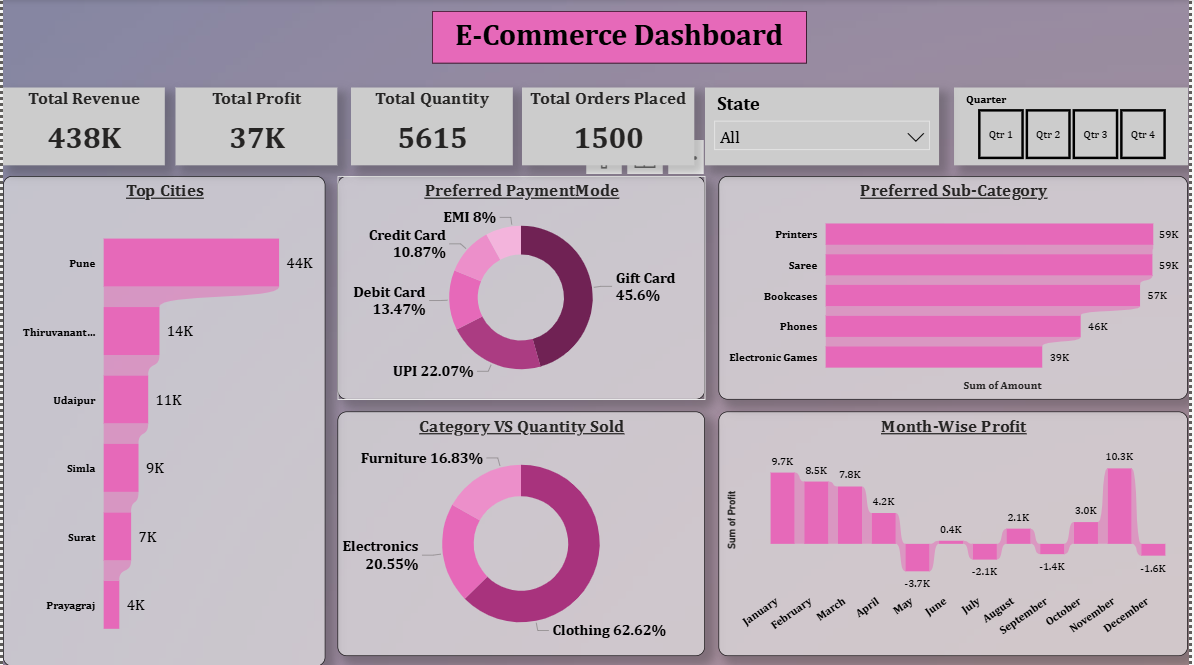

The dashboard page shown, as its layout file describes it:
{"tool":"powerbi","page":{"name":"E-commerce Dashboard","canvas":[1280,720],"ordinal":0},"visuals":[{"type":"columnChart","title":"Month-Wise Profit","fields":{"Category":["orders.Order Date.Variation.Date Hierarchy.Month"],"Y":["Sum(Details.Profit)"]},"box":[772.4,445.3,506.8,263.9],"z":0},{"type":"barChart","title":"Preferred Sub-Category","fields":{"Category":["Details.Sub-Category"],"Y":["Sum(Details.Amount)"]},"box":[772.4,191.1,506.8,241.3],"z":1000},{"type":"donutChart","title":" Preferred PaymentMode","fields":{"Category":["Details.PaymentMode"],"Y":["CountNonNull(Details.Order ID)"]},"box":[361.1,191.1,396.7,241.3],"z":2000},{"type":"pieChart","title":"Category VS Quantity Sold","fields":{"Category":["Details.Category"],"Y":["Sum(Details.Quantity)"]},"box":[361.1,445.3,396.7,263.9],"z":3000},{"type":"barChart","title":"Top Cities","fields":{"Category":["orders.City"],"Y":["Sum(Details.Amount)"]},"box":[0,191.1,348.1,529.5],"z":4000},{"type":"textbox","box":[463,13.2,404.4,56.7],"z":5000},{"type":"card","title":"Total Revenue","fields":{"Values":["Sum(Details.Amount)"]},"box":[0,95.5,174.9,84.2],"z":6000},{"type":"card","title":"Total Profit","fields":{"Values":["Sum(Details.Profit)"]},"box":[186.2,95.5,174.9,84.2],"z":7000},{"type":"card","title":"Total Quantity","fields":{"Values":["Sum(Details.Quantity)"]},"box":[375.7,95.5,174.9,84.2],"z":8000},{"type":"card","title":"Total Orders Placed","fields":{"Values":["CountNonNull(Details.Order ID)"]},"box":[560.3,95.5,186.2,84.2],"z":9000},{"type":"slicer","fields":{"Values":["orders.Order Date.Variation.Date Hierarchy.Quarter"]},"box":[1026.6,95.5,252.6,84.2],"z":10000},{"type":"slicer","fields":{"Values":["orders.State"]},"box":[757.8,95.5,252.6,84.2],"z":11000}]}

Visuals, with their boxes in screenshot pixels (x1, y1, x2, y2), scaled from the page's 1280x720 canvas onto the 1194x665 screenshot:
"Month-Wise Profit" columnChart: [721,411,1193,655]
"Preferred Sub-Category" barChart: [721,177,1193,399]
" Preferred PaymentMode" donutChart: [337,177,707,399]
"Category VS Quantity Sold" pieChart: [337,411,707,655]
"Top Cities" barChart: [0,177,325,664]
textbox: [432,12,809,65]
"Total Revenue" card: [0,88,163,166]
"Total Profit" card: [174,88,337,166]
"Total Quantity" card: [350,88,514,166]
"Total Orders Placed" card: [523,88,696,166]
slicer - orders.Order Date.Variation.Date Hierarchy.Quarter: [958,88,1193,166]
slicer - orders.State: [707,88,943,166]
